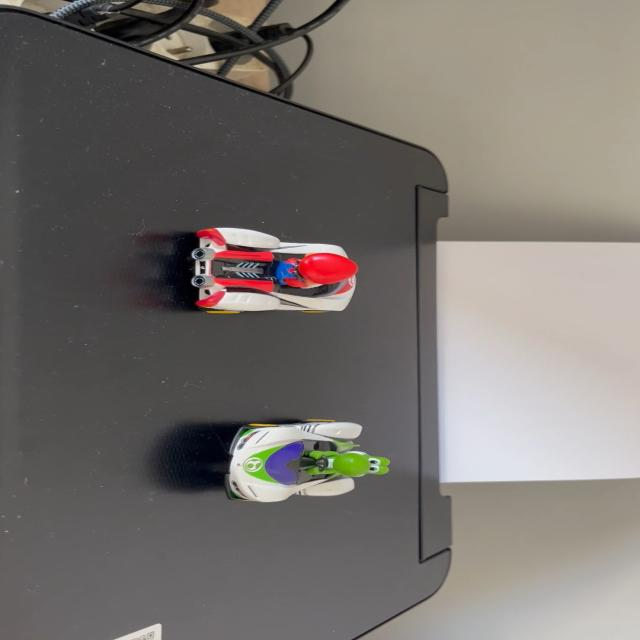mario: (178, 223, 363, 320)
yoshi: (216, 412, 407, 514)
